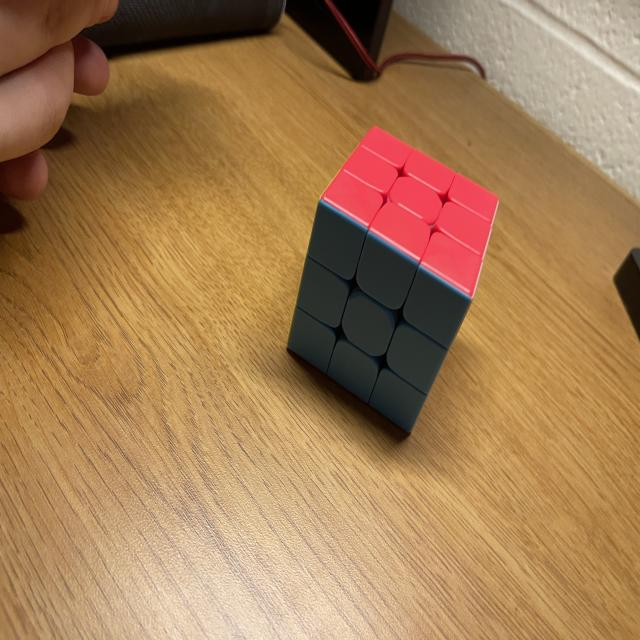Rubiks Cube: (287, 124, 499, 435)
